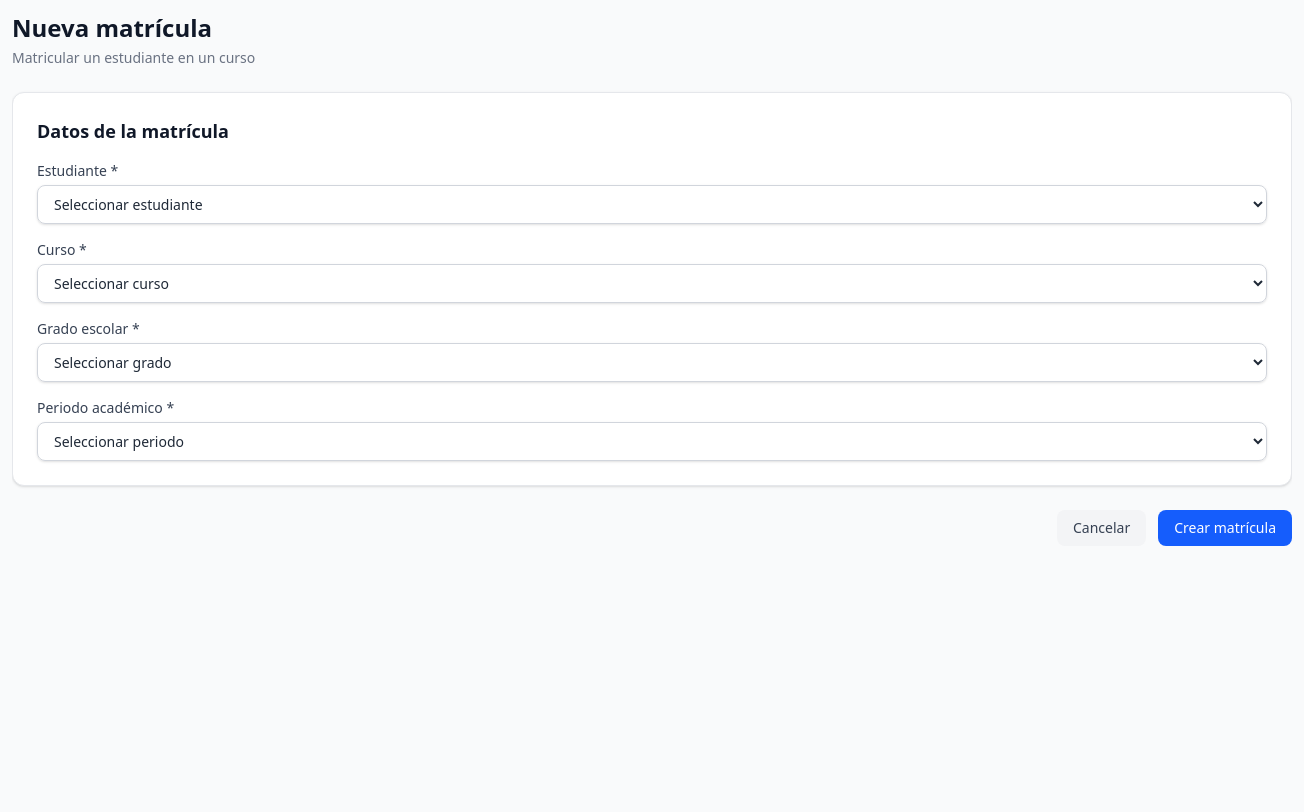
EnrollmentFormPage › validates required fields
Click the button "Crear matrícula". click: (1225, 528)
box: [1158,510,1292,546]
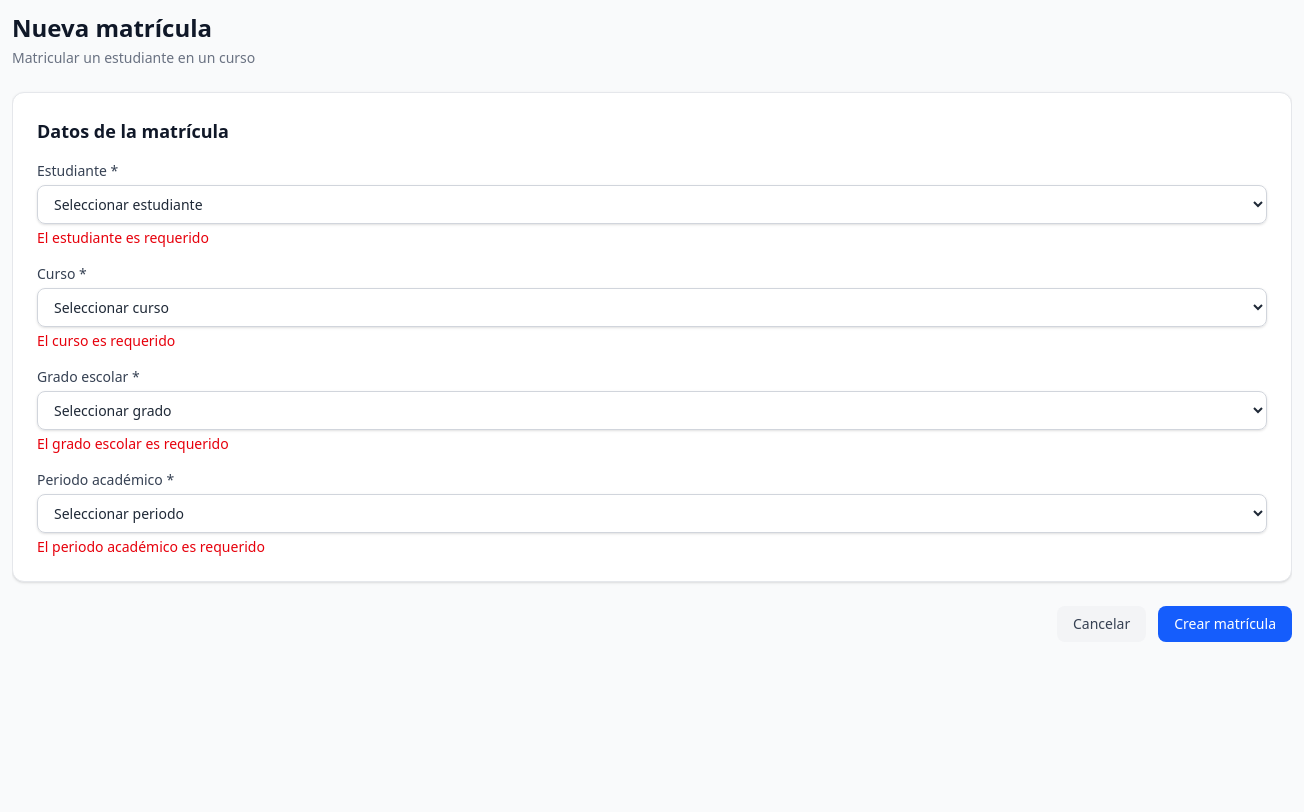
Expected: the text "El estudiante es requerido" is shown, [37,228,209,247]
